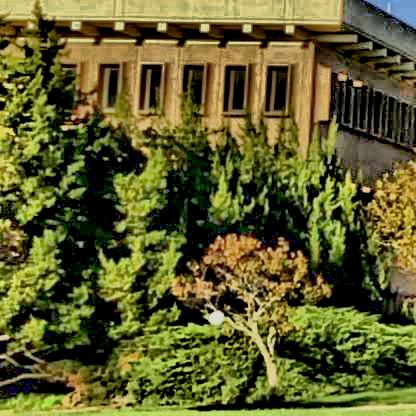golfball: (205, 305, 222, 322)
